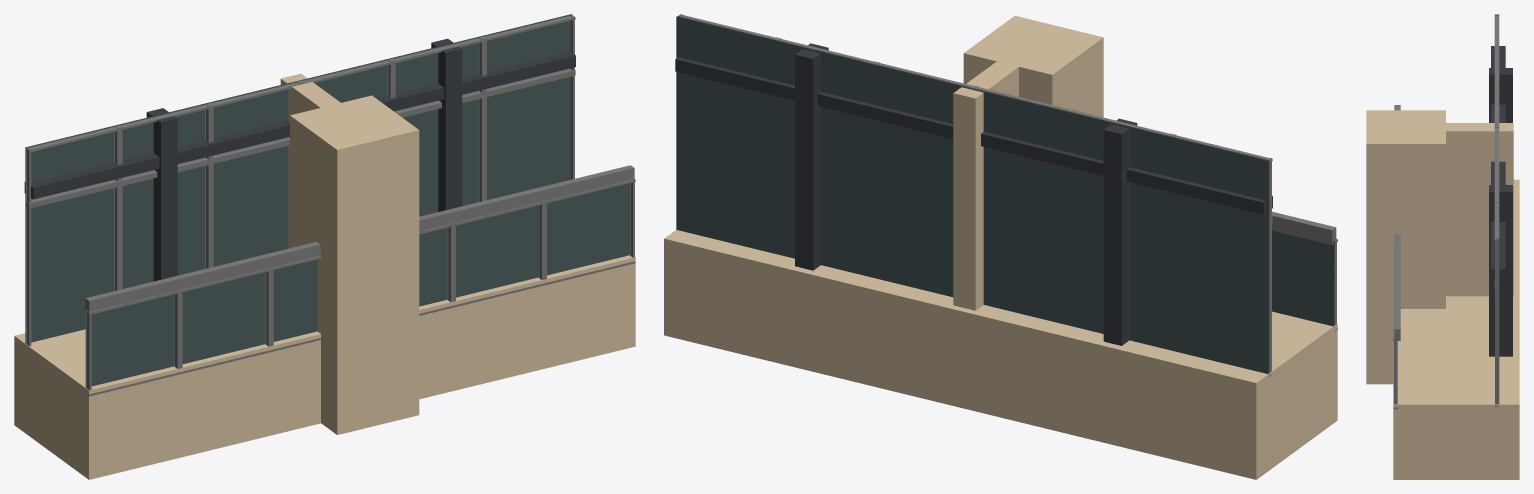
Rendered from mid-w1_close.fbx.
3 views of the same model, side by side, from view 1: azimuth 30°, elevation 25°; view 2: azimuth 150°, elevation 25°; view 3: azimuth 270°, elevation 25° (orthographic). The views are drawn at different scales.
Visible parts, largest first — view 1: M_Wall.008; view 2: M_Wall.008; view 3: M_Wall.008.
Boxes of the visible parts, left/top/right/bottom form: M_Wall.008: left=14, top=14, right=635, bottom=479; M_Wall.008: left=664, top=14, right=1337, bottom=479; M_Wall.008: left=1366, top=14, right=1519, bottom=479.
Bounding box in the file's own units: 8 × 4 × 2.31.
